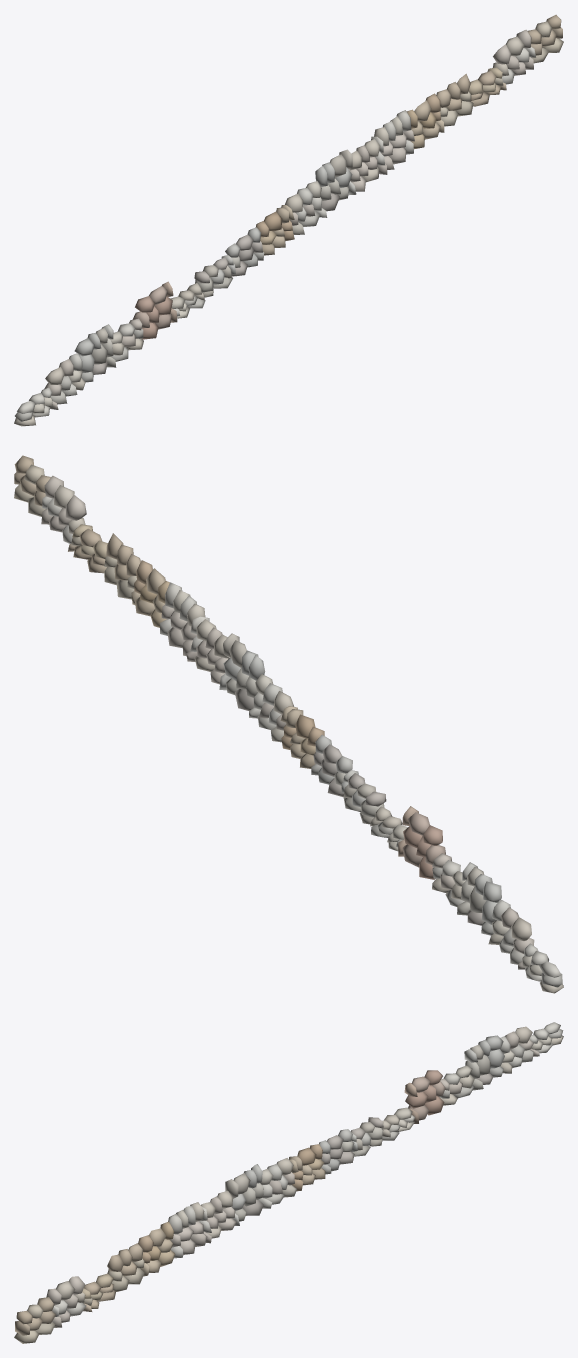
Rendered from farm_-27_-24_near.glb.
3 views of the same model, one above another, from view 1: azimuth 90°, elevation 25°; view 2: azimuth 150°, elevation 25°; view 3: azimuth 270°, elevation 25° (orthographic). The views are drawn at different scales.
Visible parts, largest first — view 1: geometry_0; view 2: geometry_0; view 3: geometry_0.
Part boxes in pixels (left/top/right/bottom): geometry_0: left=14, top=14, right=563, bottom=426; geometry_0: left=14, top=455, right=563, bottom=993; geometry_0: left=14, top=1022, right=563, bottom=1343.
Size of the model in its own units: 24.15 by 2.45 by 16.2.
